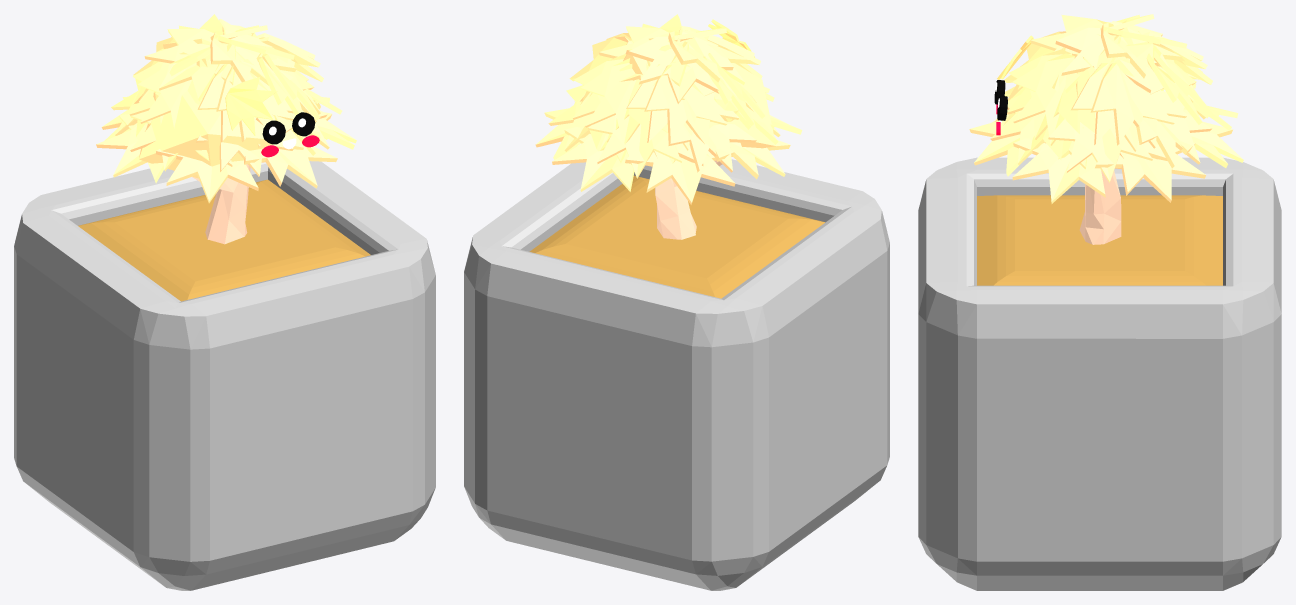
Rendered from STR_3D_maple_1.dae.
The picture shows the model from 3 angles, left to right: view 1: azimuth 30°, elevation 25°; view 2: azimuth 150°, elevation 25°; view 3: azimuth 270°, elevation 25°; orthographic projection. The views are drawn at different scales.
Visible parts, largest first — view 1: pot.001, Icosphere.004, soil.001, Cylinder.045, Cylinder.044, Cylinder.004; view 2: pot.001, Icosphere.004, soil.001, Cylinder.045; view 3: pot.001, Icosphere.004, soil.001, Cylinder.045, Cylinder.004.
Boxes of the visible parts, box(x1,y1,x2,y2) form: pot.001: box(14, 161, 435, 590); Icosphere.004: box(96, 14, 356, 203); soil.001: box(78, 179, 370, 301); Cylinder.045: box(192, 164, 250, 244); Cylinder.044: box(225, 77, 276, 135); Cylinder.004: box(261, 112, 319, 157); pot.001: box(464, 159, 889, 590); Icosphere.004: box(535, 14, 802, 204); soil.001: box(529, 175, 825, 298); Cylinder.045: box(655, 160, 722, 239); pot.001: box(918, 157, 1281, 590); Icosphere.004: box(969, 14, 1243, 203); soil.001: box(977, 195, 1222, 285); Cylinder.045: box(1079, 170, 1121, 244); Cylinder.004: box(994, 80, 1007, 135).
Size of the model in its own units: 2 by 2 by 3.11.
